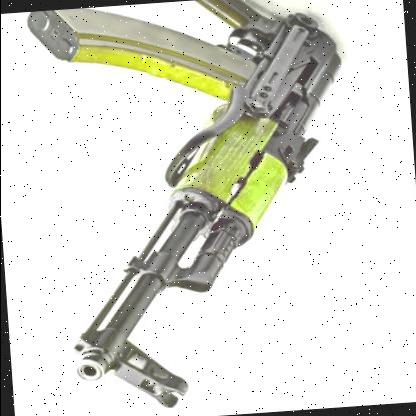rifle: (2, 0, 378, 390)
